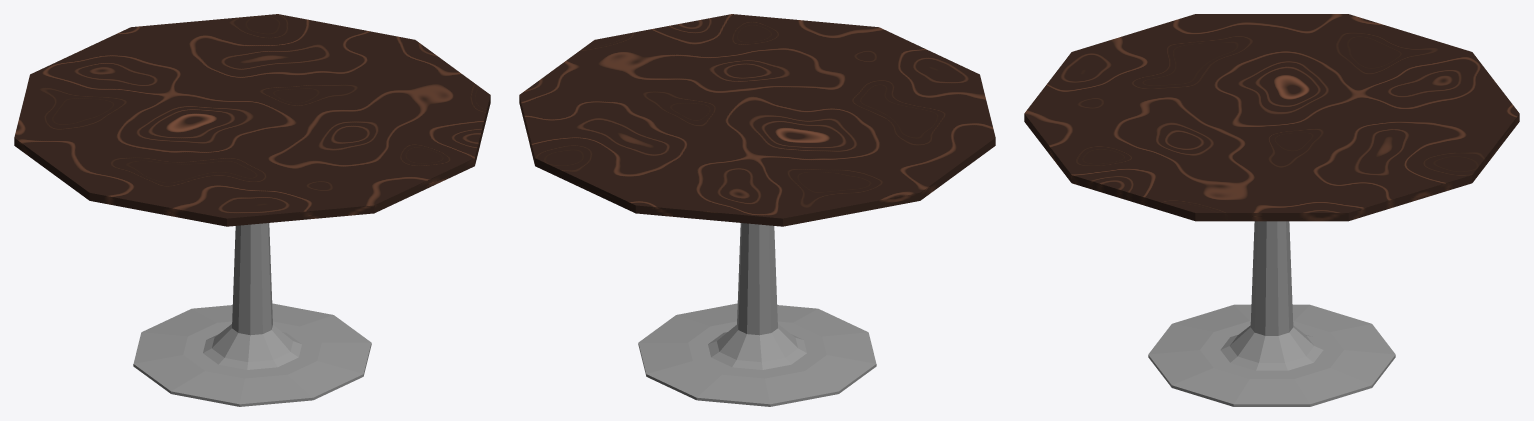
The model's file is table.fbx.
3 views of the same model, side by side, from view 1: azimuth 30°, elevation 25°; view 2: azimuth 150°, elevation 25°; view 3: azimuth 270°, elevation 25° (orthographic).
Visible parts, largest first — view 1: table; view 2: table; view 3: table.
Boxes of the visible parts, <box> form: table: <box>14,14,490,406</box>; table: <box>519,14,995,406</box>; table: <box>1024,14,1519,406</box>.
Size of the model in its own units: 362 by 206 by 380.
2 materials, 1 textured.
